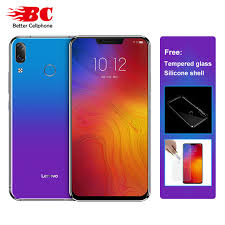lenovo: (65, 34, 149, 202), (6, 33, 69, 203)
